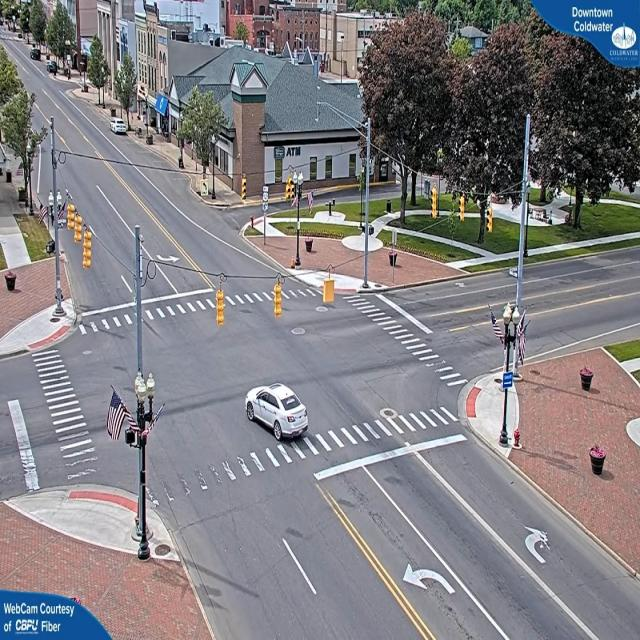car: (246, 382, 310, 439), (111, 121, 130, 138)
